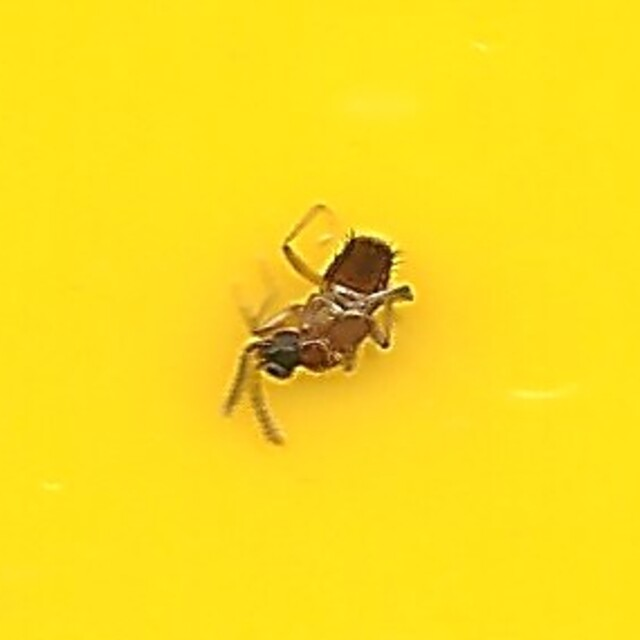Hymenoptera: (225, 199, 415, 441)
